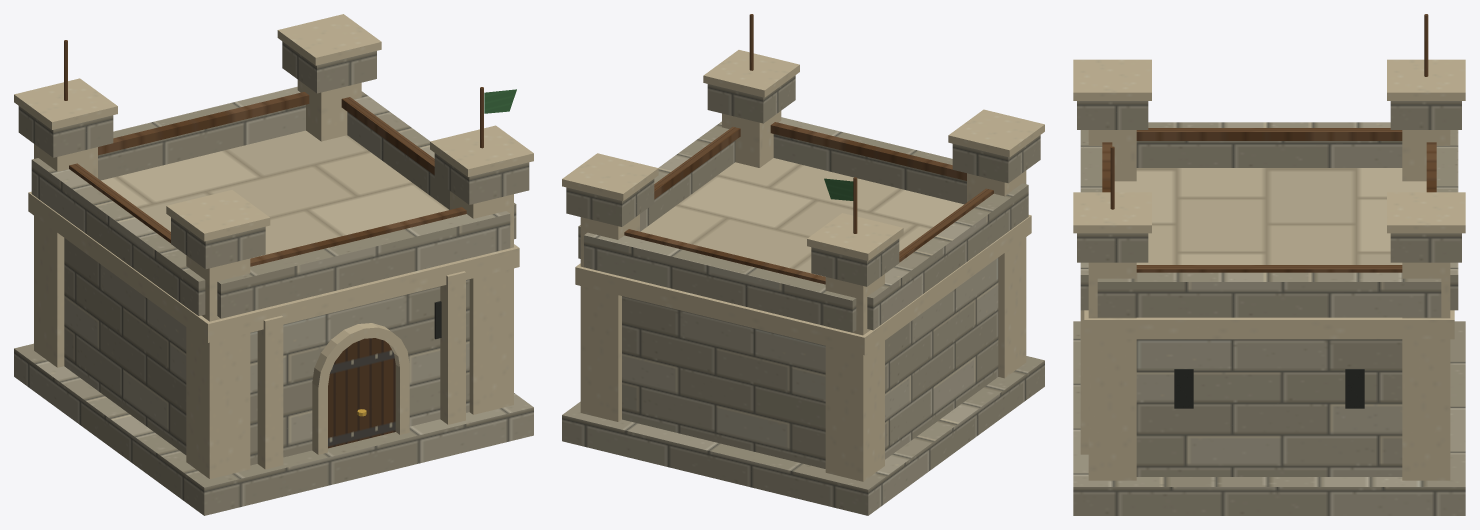
The model's file is palace.glb.
3 views of the same model, side by side, from view 1: azimuth 30°, elevation 25°; view 2: azimuth 150°, elevation 25°; view 3: azimuth 270°, elevation 25° (orthographic). The views are drawn at different scales.
Visible parts, largest first — view 1: Building_Body.002; view 2: Building_Body.002; view 3: Building_Body.002.
Boxes of the visible parts, x1,y1,x2,y2 form: Building_Body.002: (14,14,533,515); Building_Body.002: (562,14,1044,515); Building_Body.002: (1073,14,1465,515).
Bounding box in the file's own units: 2.21 × 2.18 × 2.2.
Materials: 1 (1 with a texture image).
